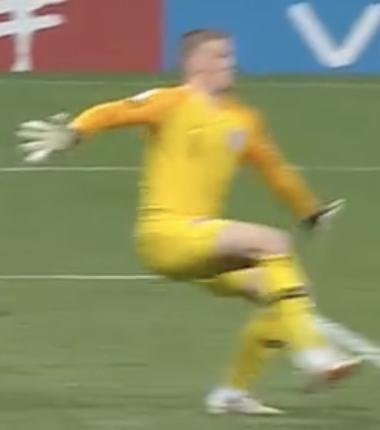goalkeeper: (7, 16, 380, 430)
